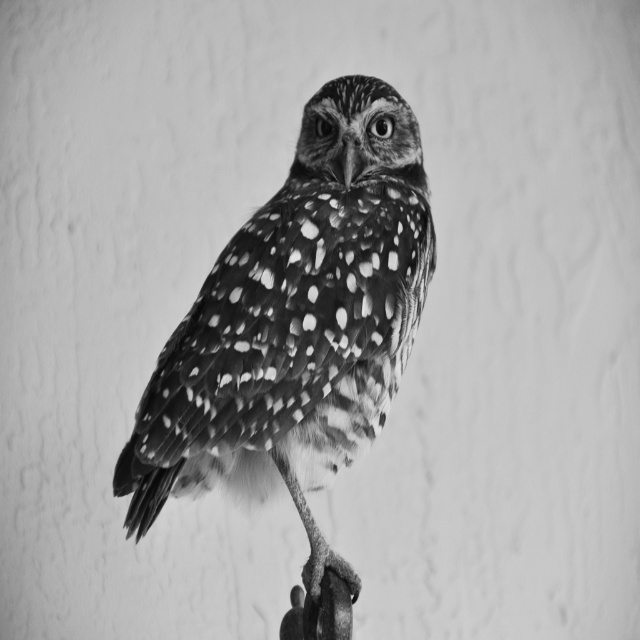Owl: (112, 74, 437, 607)
